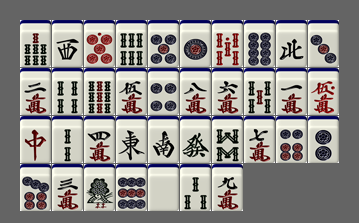0m: (308, 68, 339, 115)
0p: (84, 20, 115, 67)
0s: (212, 20, 243, 67)
1m: (276, 68, 307, 115)
1p: (180, 20, 211, 67)
1s: (84, 164, 115, 211)
1z: (116, 116, 147, 163)
2m: (20, 68, 51, 115)
2p: (308, 116, 339, 163)
2s: (52, 116, 83, 163)
2z: (148, 116, 179, 163)
3m: (52, 164, 83, 211)
3p: (308, 20, 339, 67)
3s: (180, 164, 211, 211)
3z: (52, 20, 83, 67)
4m: (84, 116, 115, 163)
4p: (148, 68, 179, 115)
4s: (52, 68, 83, 115)
4z: (276, 20, 307, 67)
5m: (116, 68, 147, 115)
5p: (148, 20, 179, 67)
5s: (244, 68, 275, 115)
5z: (148, 164, 179, 211)
6m: (212, 68, 243, 115)
6p: (276, 116, 307, 163)
6s: (116, 20, 147, 67)
6z: (180, 116, 211, 163)
7m: (244, 116, 275, 163)
7p: (20, 164, 51, 211)
7s: (20, 20, 51, 67)
7z: (20, 116, 51, 163)
8m: (180, 68, 211, 115)
8p: (244, 20, 275, 67)
8s: (212, 116, 243, 163)
9m: (212, 164, 243, 211)
9p: (116, 164, 147, 211)
9s: (84, 68, 115, 115)
